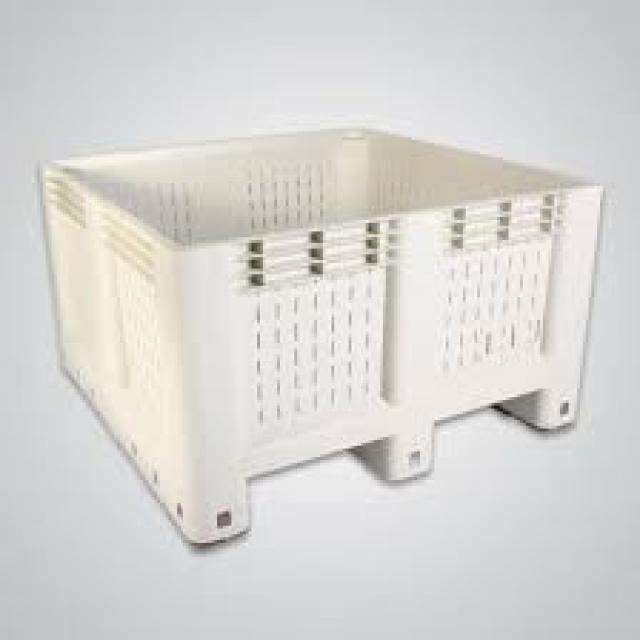basket: (41, 118, 622, 553)
